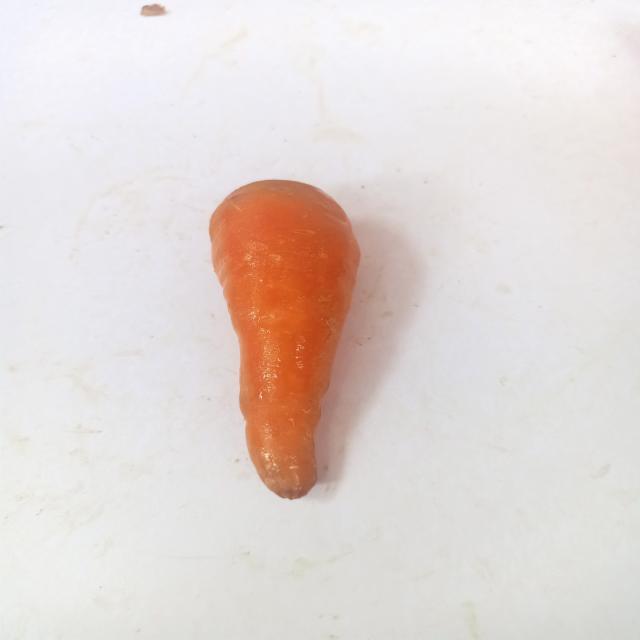Carrot: (197, 159, 376, 517)
